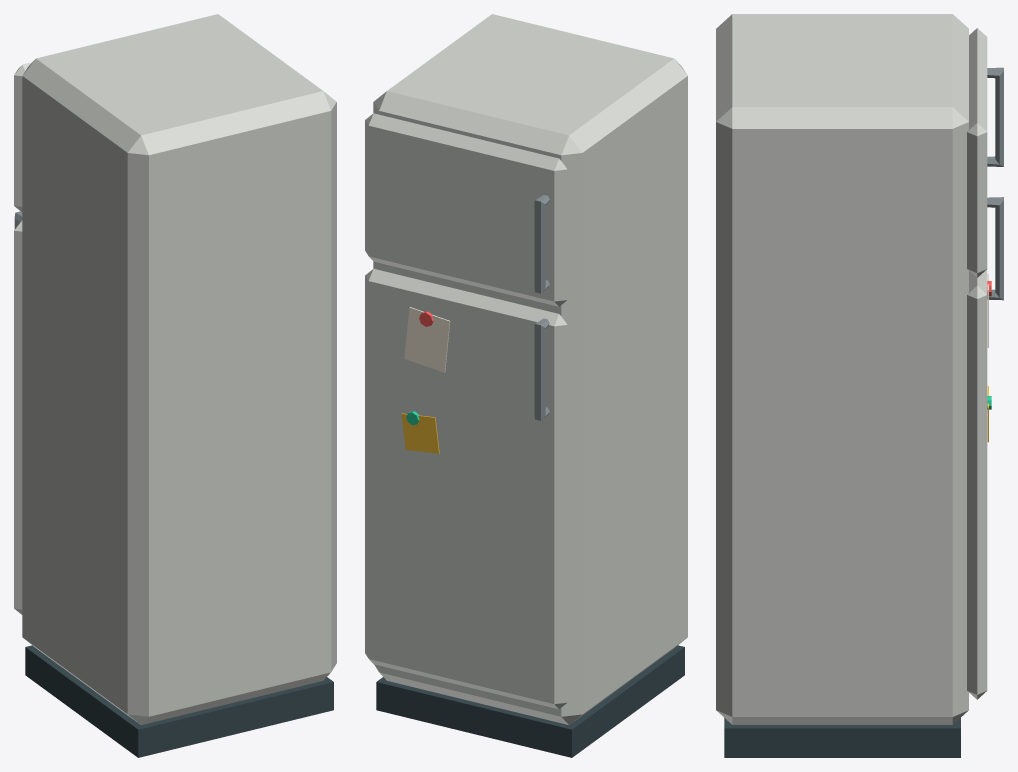
The model's file is sm_env_depot_fridge.glb.
3 renders of one model, left to right at view 1: azimuth 30°, elevation 25°; view 2: azimuth 150°, elevation 25°; view 3: azimuth 270°, elevation 25°, orthographic. The views are drawn at different scales.
Parts seen in each view (by area): view 1: Body, Kick, FridgeDoor, FreezerDoor; view 2: Body, FridgeDoor, FreezerDoor, Kick, Note, Handle.001, Handle, NoteB; view 3: Body, FridgeDoor, Kick, FreezerDoor, Handle.001, Handle.
Boxes of the visible parts, left/top/right/bottom form: Body: left=22, top=14, right=336, bottom=724; Kick: left=25, top=645, right=333, bottom=757; FridgeDoor: left=14, top=220, right=22, bottom=614; FreezerDoor: left=14, top=62, right=32, bottom=211; Body: left=373, top=14, right=687, bottom=724; FridgeDoor: left=365, top=268, right=567, bottom=709; FreezerDoor: left=365, top=113, right=567, bottom=306; Kick: left=376, top=645, right=684, bottom=757; Note: left=404, top=307, right=450, bottom=372; Handle.001: left=534, top=318, right=549, bottom=420; Handle: left=534, top=195, right=549, bottom=293; NoteB: left=401, top=413, right=439, bottom=453; Body: left=716, top=14, right=968, bottom=724; FridgeDoor: left=967, top=269, right=987, bottom=699; Kick: left=724, top=718, right=960, bottom=757; FreezerDoor: left=967, top=28, right=987, bottom=277; Handle.001: left=987, top=197, right=1003, bottom=300; Handle: left=987, top=67, right=1003, bottom=166.
Size of the model in its own units: 0.62 by 1.75 by 0.7054.
